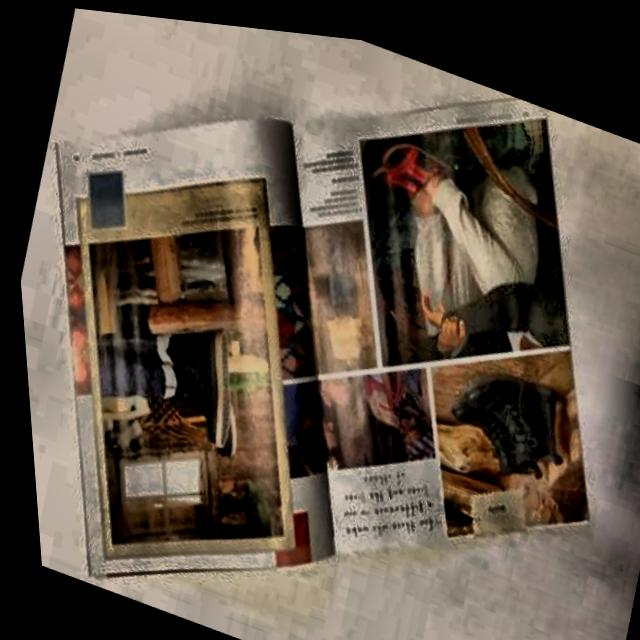Paper: (0, 0, 640, 640), (177, 15, 640, 640), (2, 31, 439, 640)
